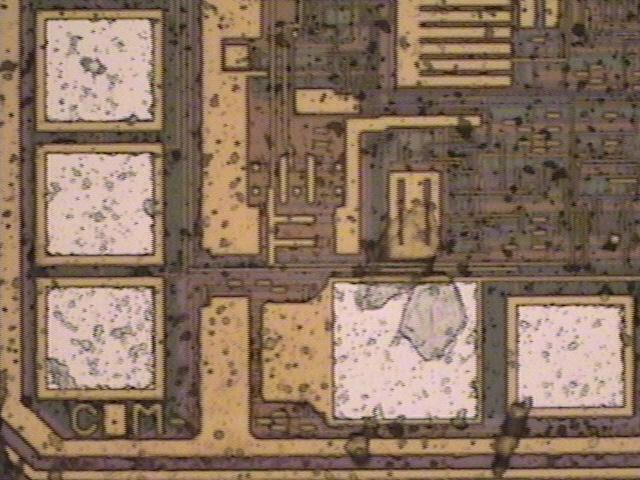PO CONTAMINATION: (1, 1, 640, 480)
